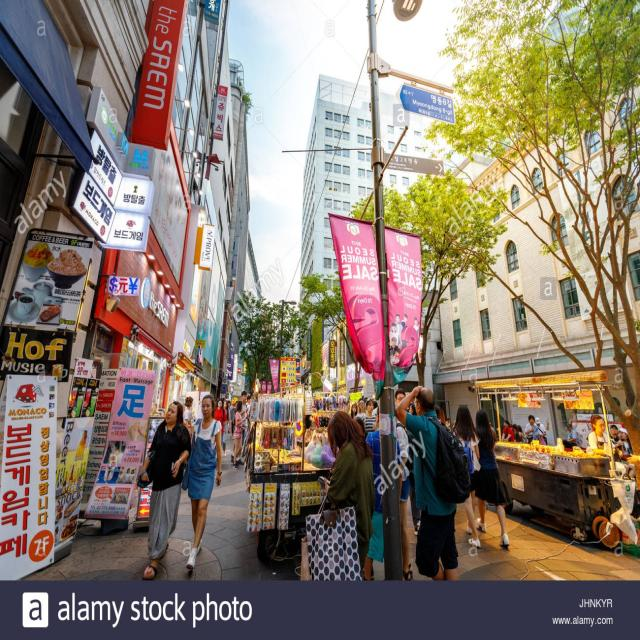body: (393, 384, 473, 579), (299, 410, 374, 581), (134, 400, 192, 581), (178, 393, 223, 572), (363, 404, 401, 581), (471, 409, 511, 547), (450, 405, 481, 549), (151, 148, 192, 241), (394, 417, 414, 582), (388, 310, 423, 373), (588, 414, 624, 461), (230, 390, 249, 466), (232, 400, 248, 471), (344, 400, 368, 437), (213, 398, 228, 448), (228, 398, 240, 458), (221, 399, 231, 457), (222, 399, 232, 457), (524, 414, 542, 446), (435, 401, 456, 428), (182, 395, 195, 438), (361, 397, 376, 434), (616, 428, 634, 455), (534, 418, 549, 447), (569, 406, 594, 423), (562, 422, 578, 448), (394, 389, 410, 414), (608, 424, 622, 452), (501, 419, 515, 442), (319, 394, 337, 411), (245, 394, 252, 425), (515, 425, 527, 443), (408, 400, 420, 417), (355, 400, 366, 418), (369, 558, 376, 580), (349, 403, 358, 420), (370, 398, 380, 412), (509, 423, 516, 441), (488, 421, 496, 436), (221, 396, 225, 400)
